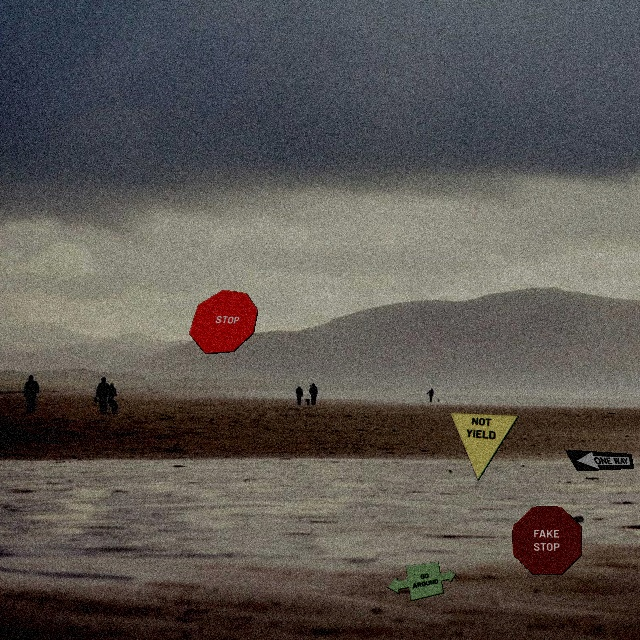FAKE_STOP: (512, 506, 582, 575)
GO_AROUND: (386, 561, 456, 601)
NOT_YIELD: (449, 412, 519, 481)
ONE_WAY_ left: (564, 449, 634, 471)
STOP: (188, 289, 258, 354)
